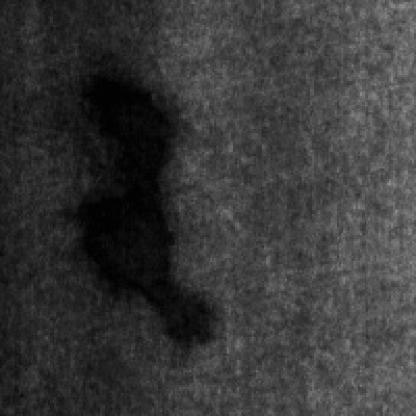patches: (63, 47, 166, 296), (131, 260, 223, 350)
